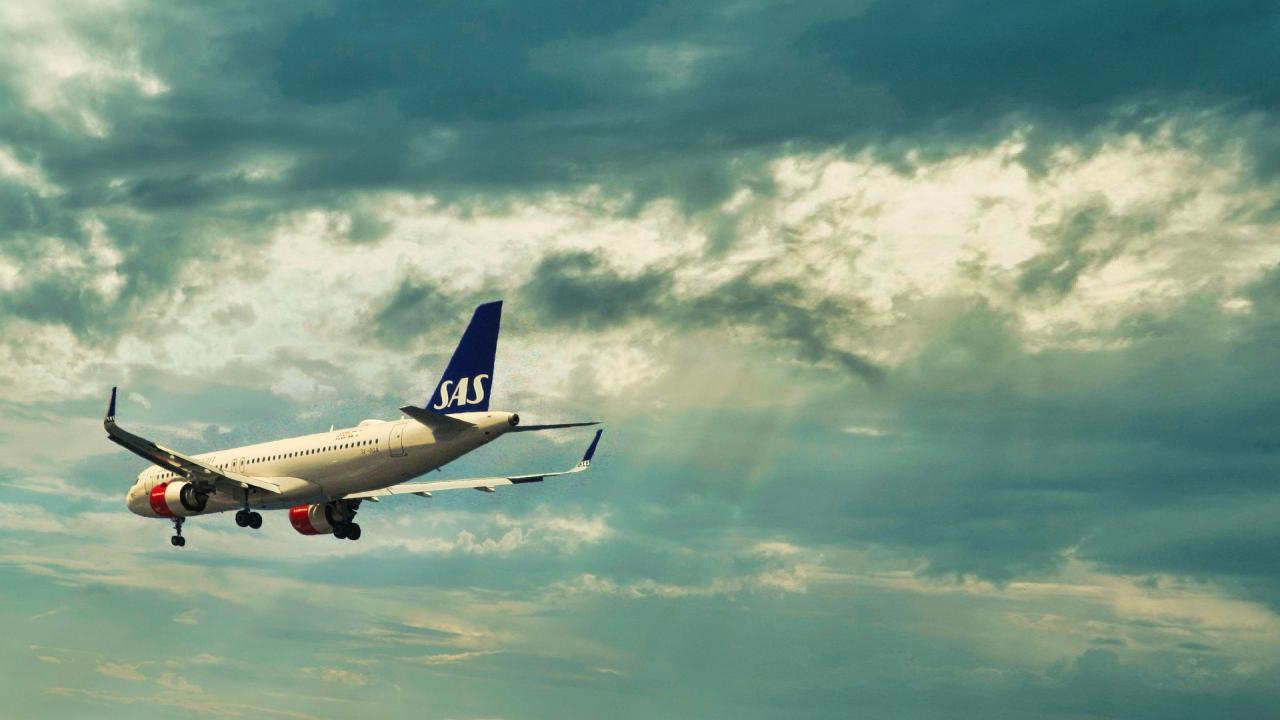Airplane: (94, 290, 617, 550)
